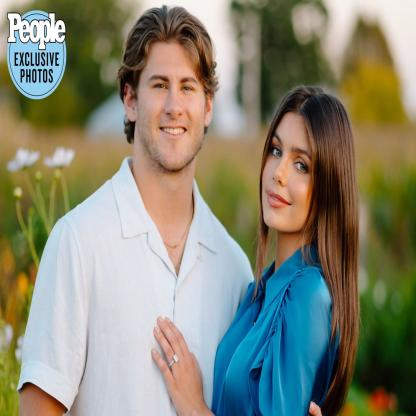person: (120, 3, 215, 173), (258, 84, 346, 239)
